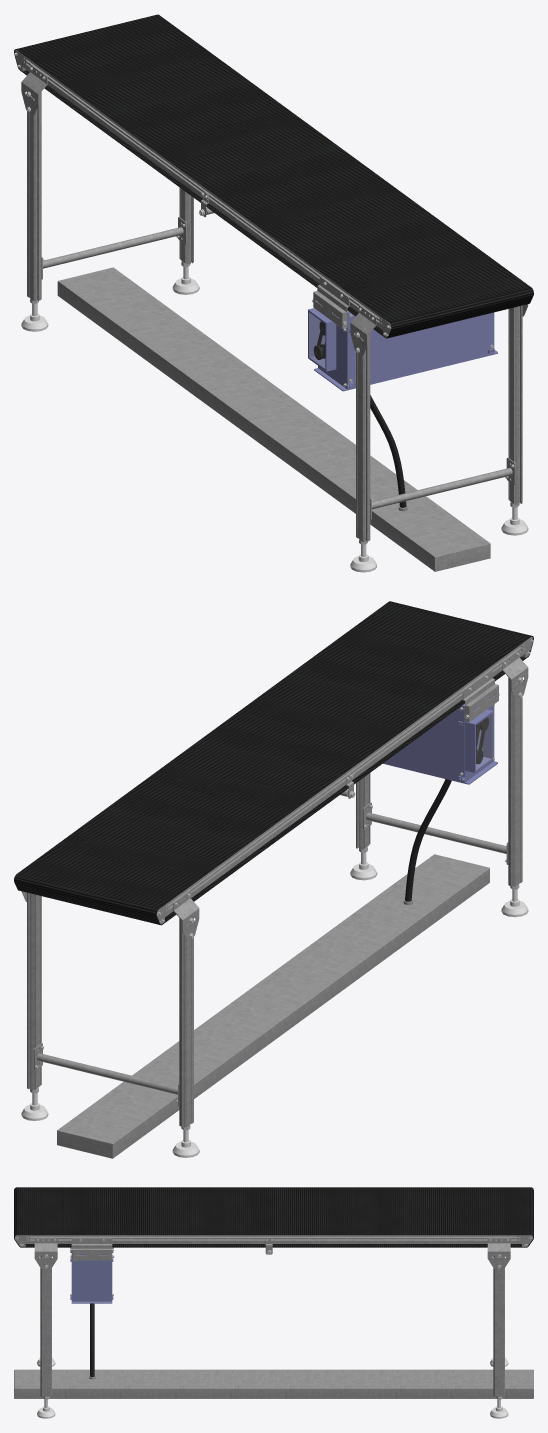
3 views of the same model, one above another, from view 1: azimuth 30°, elevation 25°; view 2: azimuth 150°, elevation 25°; view 3: azimuth 270°, elevation 25° (orthographic). The views are drawn at different scales.
Visible parts, largest first — view 1: 05_belt, 05_cablebox, 05_sus, 05_box, 05_plate, 05_leg, 05_cable, 05_acryl; view 2: 05_belt, 05_cablebox, 05_sus, 05_box, 05_plate, 05_leg, 05_cable, 05_acryl; view 3: 05_belt, 05_cablebox, 05_sus, 05_plate, 05_box, 05_leg, 05_cable.
Part boxes in pixels (box(x1,y1,x2,y2)): 05_belt: box(14, 14, 533, 338); 05_cablebox: box(57, 267, 490, 571); 05_sus: box(14, 50, 522, 541); 05_box: box(308, 302, 497, 391); 05_plate: box(21, 64, 528, 355); 05_leg: box(21, 267, 528, 572); 05_cable: box(370, 395, 406, 507); 05_acryl: box(309, 313, 324, 367); 05_belt: box(14, 601, 533, 925); 05_cablebox: box(57, 854, 489, 1158); 05_sus: box(27, 637, 533, 1127); 05_box: box(383, 695, 497, 784); 05_plate: box(21, 650, 528, 941); 05_leg: box(21, 852, 528, 1157); 05_cable: box(405, 779, 451, 901); 05_acryl: box(476, 714, 491, 769); 05_belt: box(14, 1187, 533, 1247); 05_cablebox: box(14, 1369, 533, 1398); 05_sus: box(15, 1235, 532, 1396); 05_plate: box(34, 1238, 510, 1268); 05_box: box(70, 1251, 113, 1303); 05_leg: box(37, 1357, 508, 1418); 05_cable: box(90, 1303, 94, 1377).
Size of the model in its own units: 0.5997 by 0.85 by 2.25.
7 materials, 2 textured.
